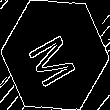M_NE: (26, 23, 84, 87)
